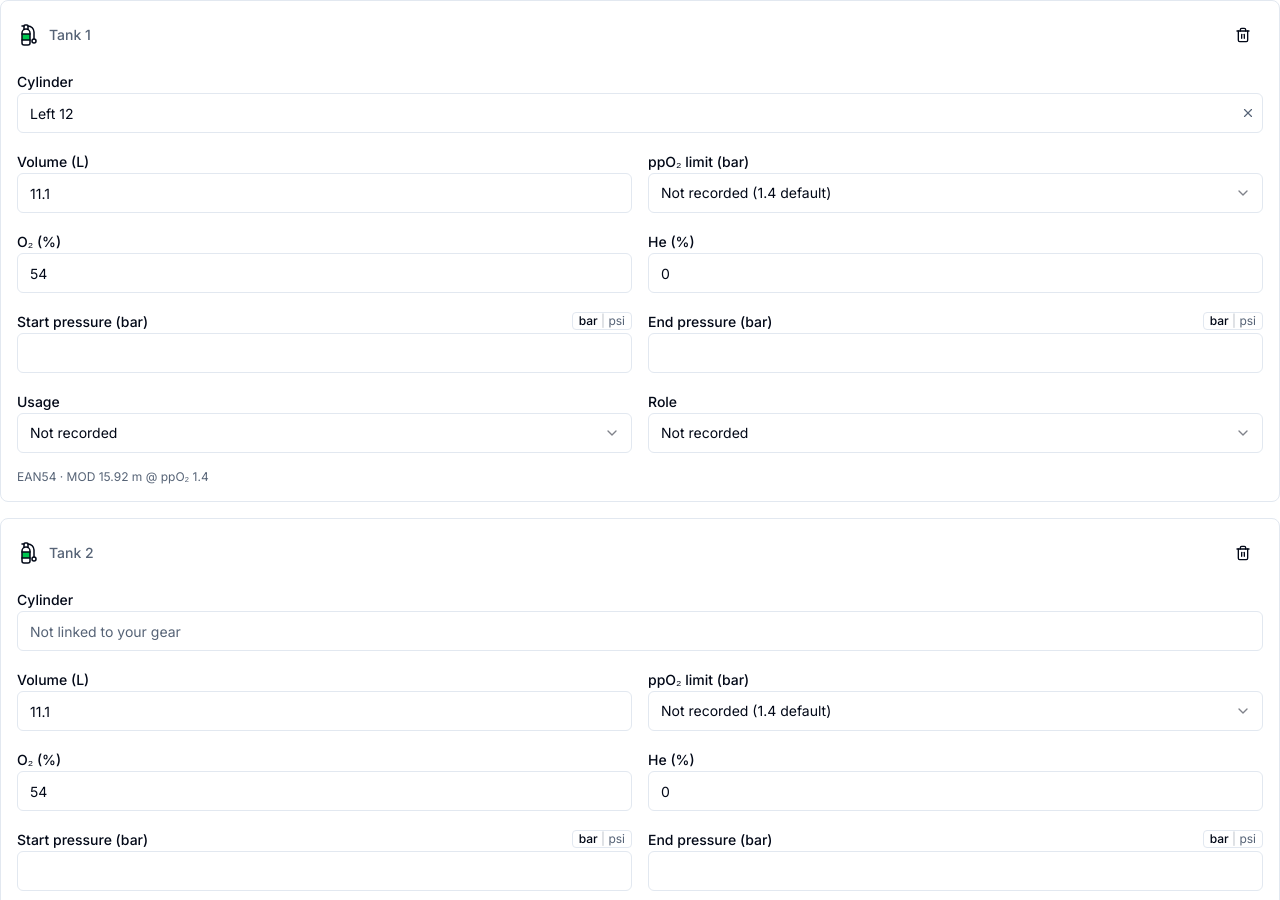
Test: MixtureFields cylinder picker › tells no cylinders apart from every cylinder on another tank
Click the 2nd dropdown labelled "Cylinder".
click(640, 631)  # box left=17, top=611, right=1263, bottom=651
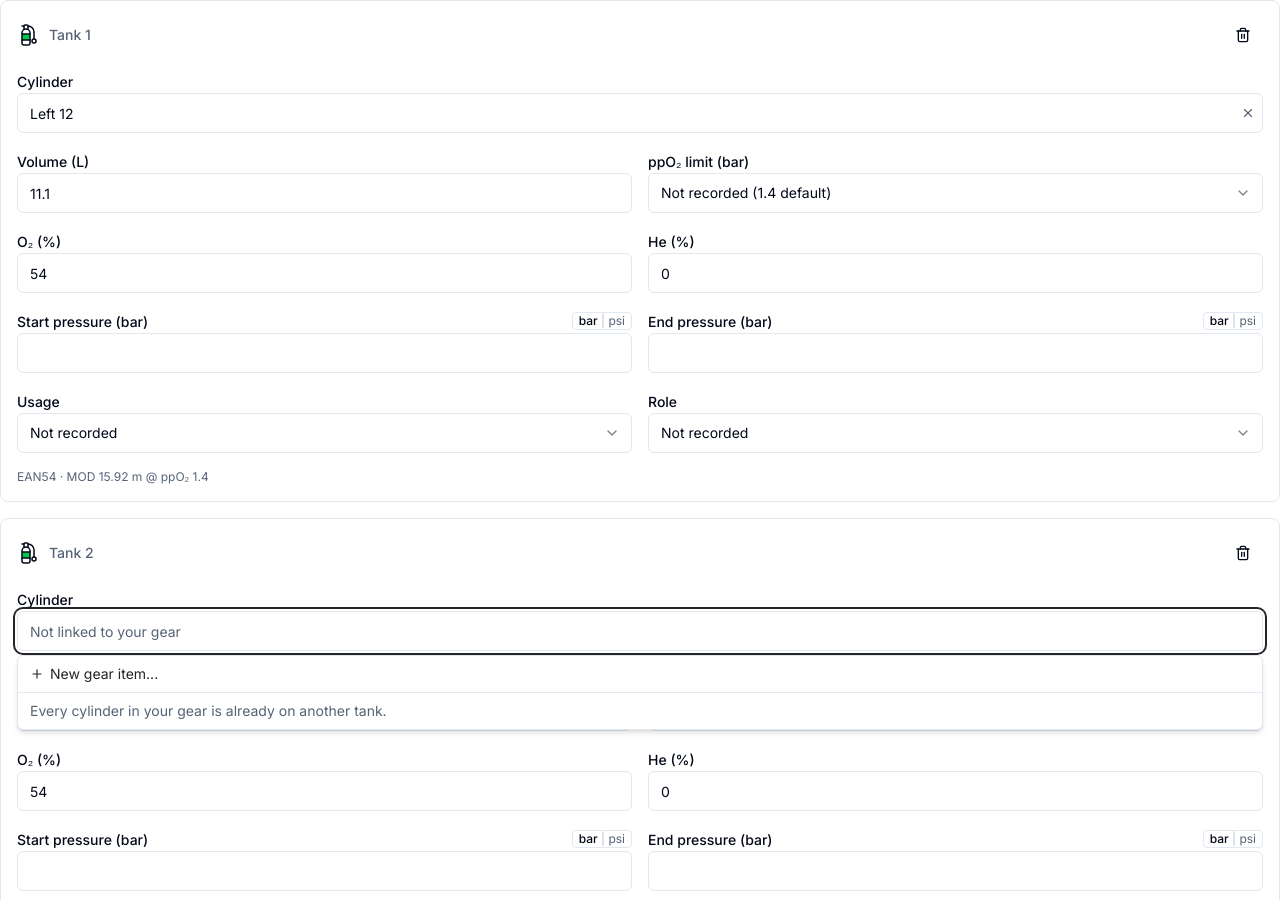
Result: the text "Every cylinder in your gear is already on another tank." is shown at left=30, top=702, right=387, bottom=719
Result: the option "New gear item..." is shown at left=18, top=656, right=1262, bottom=693
